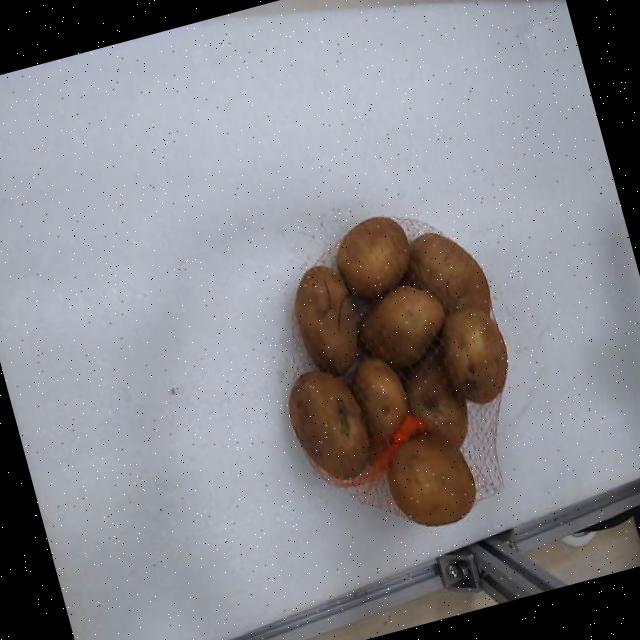potato: (288, 369, 369, 478), (387, 432, 475, 526), (358, 285, 445, 367), (294, 265, 357, 374), (409, 232, 491, 312), (441, 308, 507, 401), (405, 349, 468, 446), (336, 217, 410, 295), (354, 356, 408, 443)
